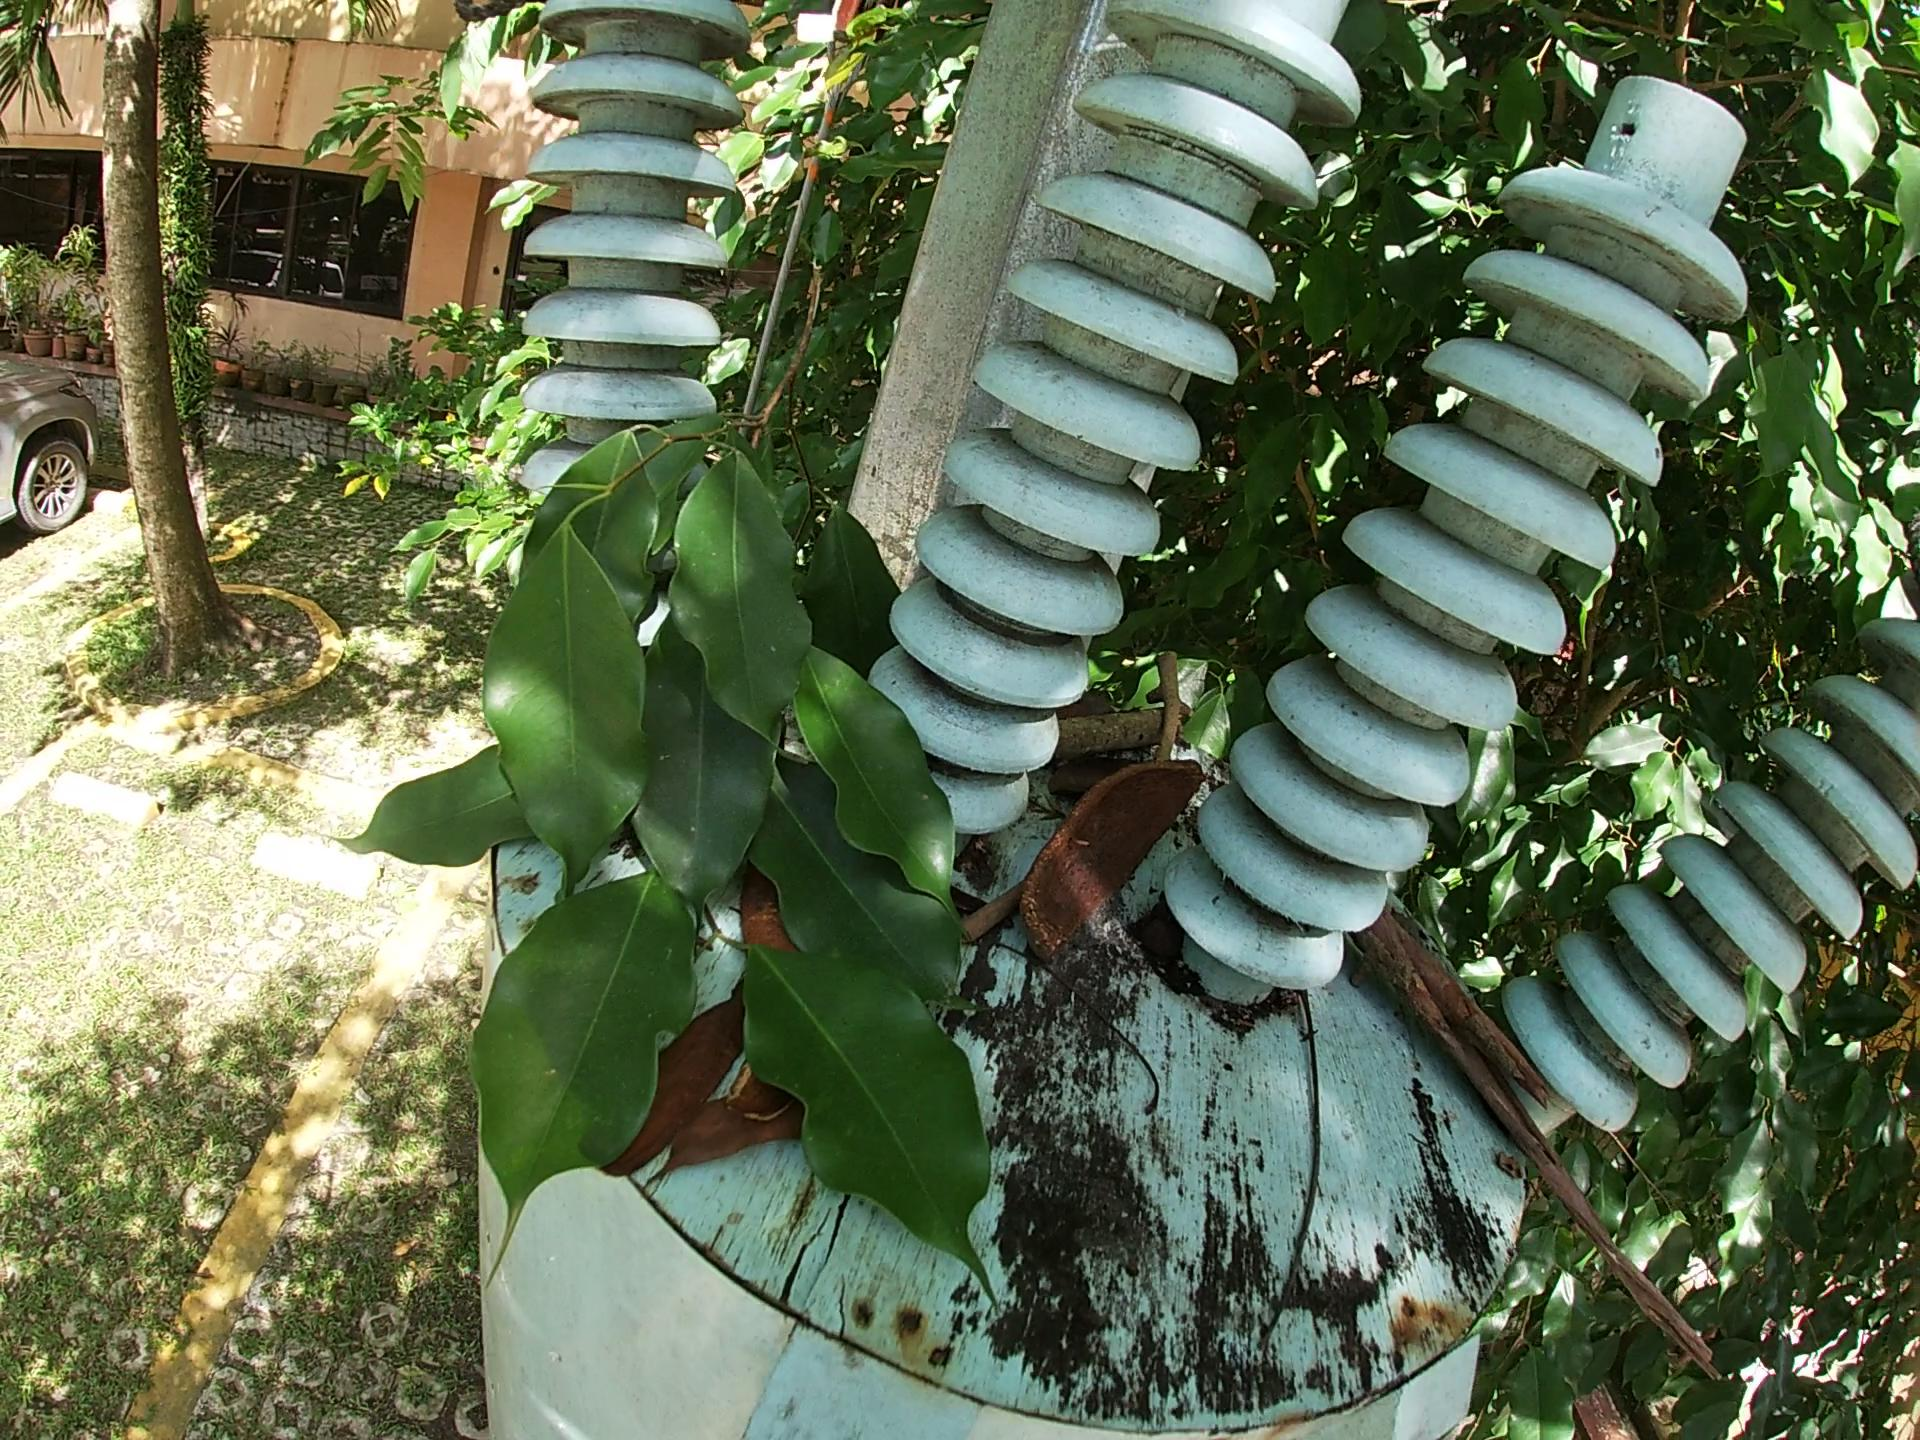branch with leaves: (301, 225, 1017, 1355)
leaf: (639, 1098, 819, 1199), (724, 867, 788, 959)
mahogany fruit: (1030, 762, 1229, 973), (596, 985, 756, 1168)
tree branch: (1359, 892, 1739, 1389), (977, 954, 1172, 1124), (1268, 926, 1333, 1363), (1040, 706, 1185, 767), (940, 885, 1045, 964), (1144, 638, 1191, 787)
